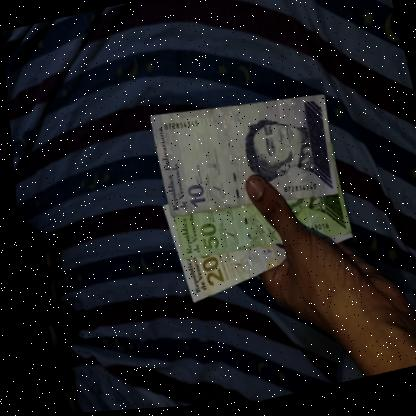fifty-front-vef: (164, 182, 350, 275)
ten-front-vef: (141, 79, 345, 233)
two_hundred-front-vef: (170, 222, 357, 307)
